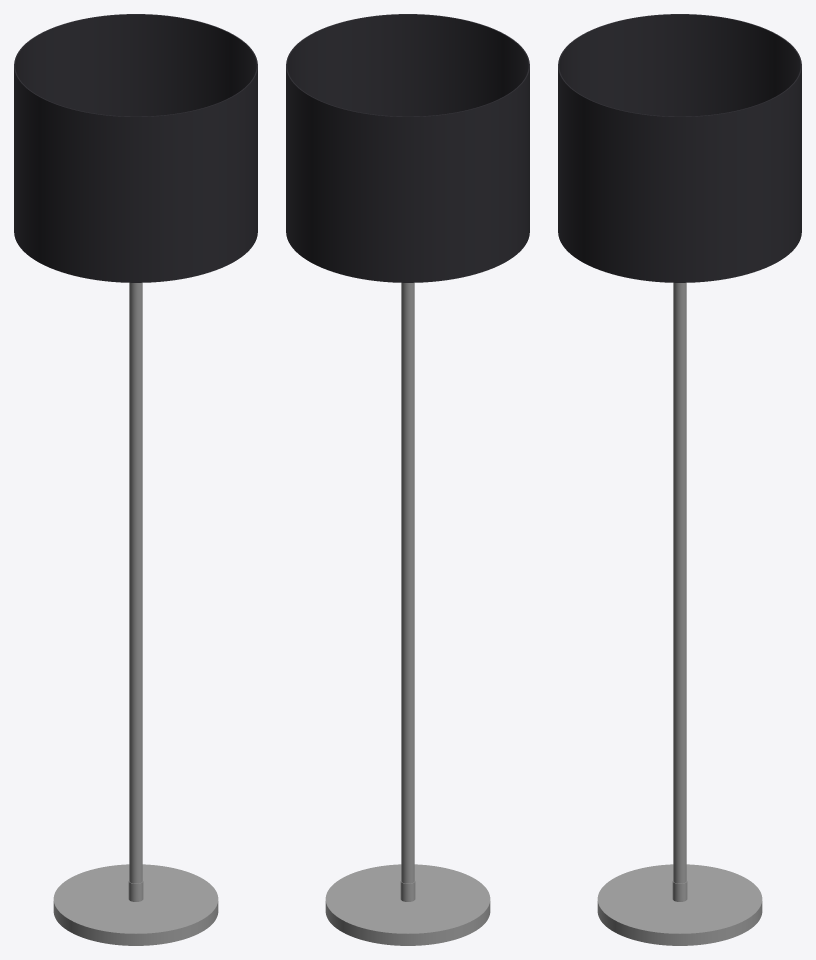
Rendered from LIRA+ikar+floor+lamp.fbx.
The picture shows the model from 3 angles, left to right: view 1: azimuth 30°, elevation 25°; view 2: azimuth 150°, elevation 25°; view 3: azimuth 270°, elevation 25°; orthographic projection.
Parts seen in each view (by area): view 1: Group7, Group5, Group6; view 2: Group7, Group5, Group6; view 3: Group7, Group5, Group6.
Part boxes in pixels (x1,y1,x2,y2): Group7: [14, 14, 257, 282]; Group5: [53, 864, 218, 945]; Group6: [129, 282, 142, 883]; Group7: [286, 14, 529, 282]; Group5: [325, 864, 490, 945]; Group6: [401, 282, 414, 883]; Group7: [558, 14, 801, 282]; Group5: [597, 864, 762, 945]; Group6: [673, 282, 686, 883].
Bounding box in the file's own units: 400 × 1530 × 400.
